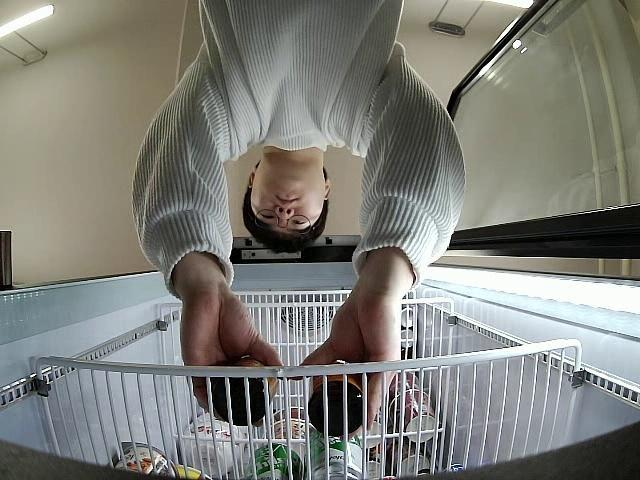17_vita500: (210, 357, 278, 426), (306, 360, 366, 436)
